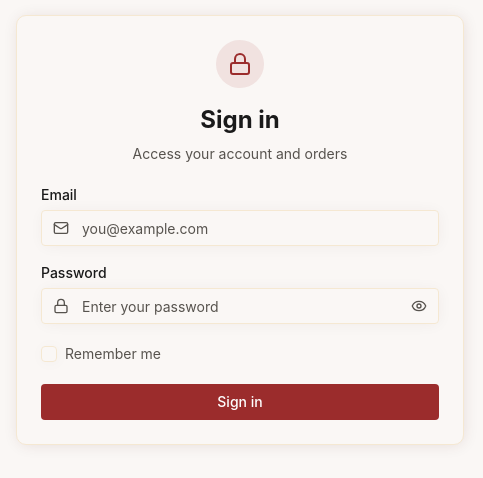
LoginForm › form validation › shows 'Password is required' when password is empty
Type "user@example.com" into the field labelled "Email" at (240, 228), box [41, 210, 439, 246]
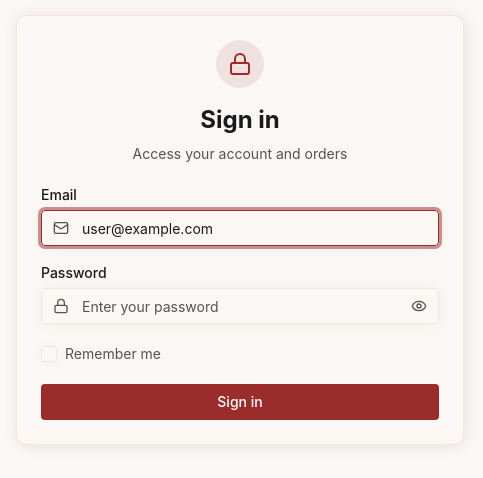
Click the button with test id "login-submit" at (240, 402), box [41, 384, 439, 420]
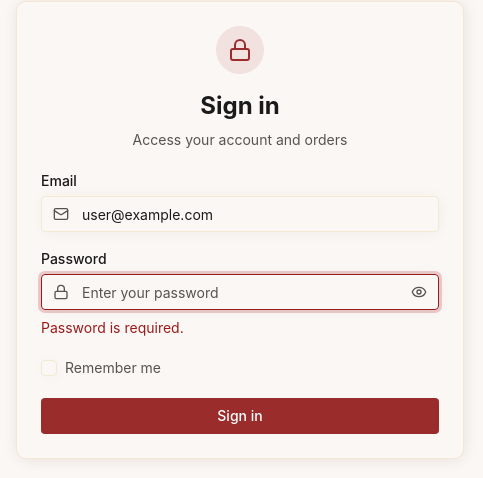
Expected: the text "Password is required." is shown, [41, 319, 184, 336]
